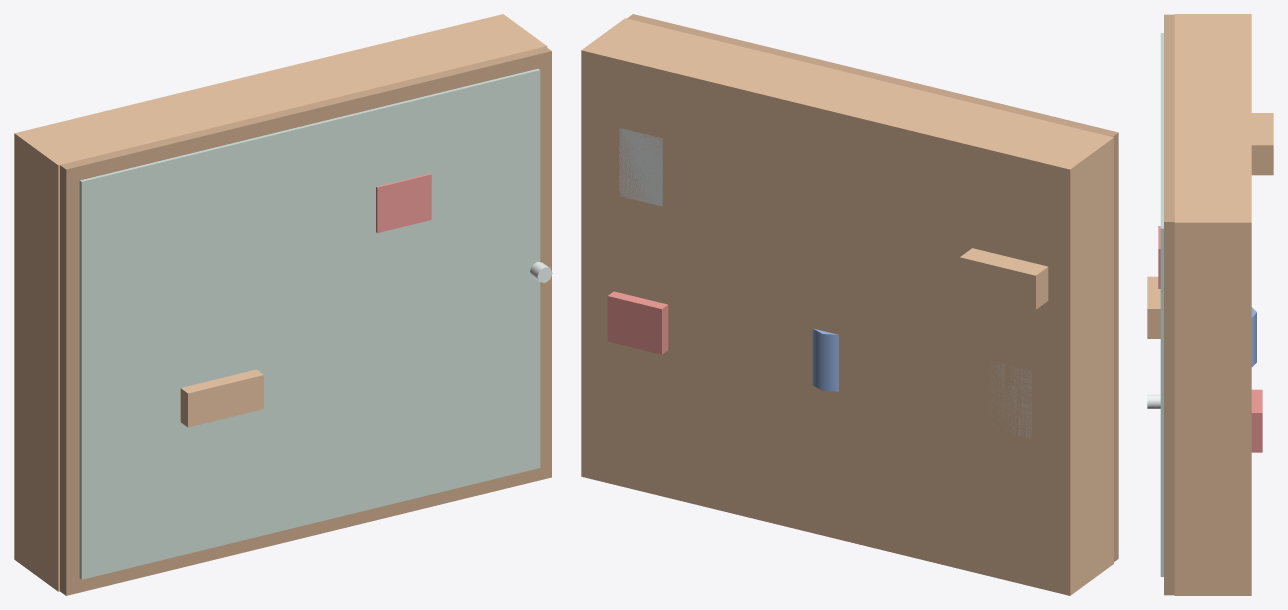
The model's file is mirrorCabinetWide.glb.
The picture shows the model from 3 angles, left to right: view 1: azimuth 30°, elevation 25°; view 2: azimuth 150°, elevation 25°; view 3: azimuth 270°, elevation 25°; orthographic projection. The views are drawn at different scales.
Parts seen in each view (by area): view 1: anim:door, mirrorCabinetWide, anim:interior; view 2: mirrorCabinetWide, anim:interior, anim:door; view 3: mirrorCabinetWide, anim:door, anim:interior.
Boxes of the visible parts, <box> form: anim:door: <box>60,46,552,595</box>; mirrorCabinetWide: <box>14,14,547,591</box>; anim:interior: <box>180,173,431,427</box>; mirrorCabinetWide: <box>581,18,1113,595</box>; anim:interior: <box>607,128,1048,438</box>; anim:door: <box>627,14,1118,561</box>; mirrorCabinetWide: <box>1174,14,1251,595</box>; anim:door: <box>1147,14,1174,595</box>; anim:interior: <box>1147,113,1273,452</box>.
Size of the model in its own units: 0.45 by 0.375 by 0.115.
